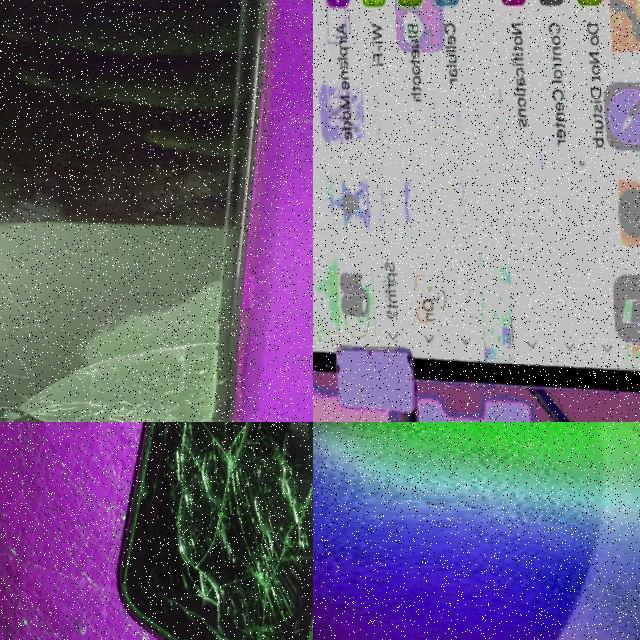screen crack: (113, 422, 313, 640), (0, 268, 204, 422)
